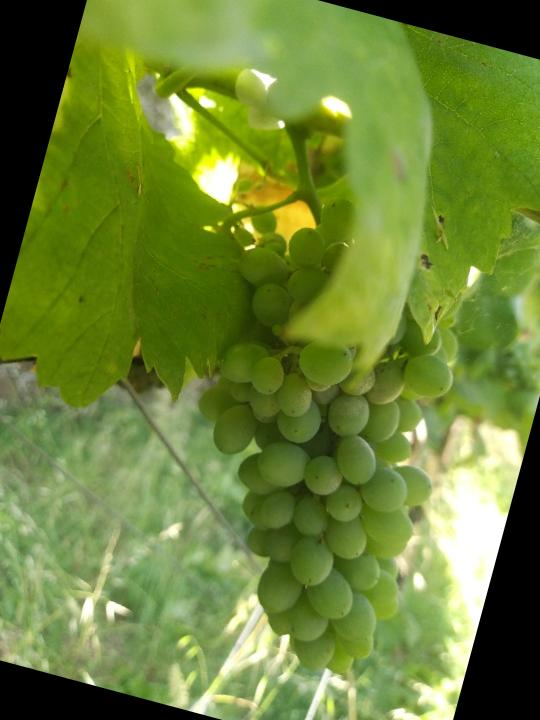grape: (138, 177, 509, 694)
